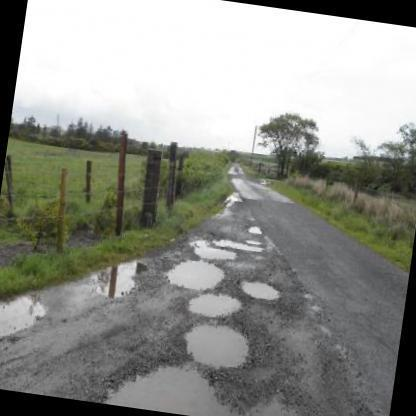pothole: (102, 350, 244, 416), (178, 318, 258, 372), (192, 232, 268, 264), (164, 260, 234, 288), (189, 288, 244, 318), (240, 274, 283, 303)
